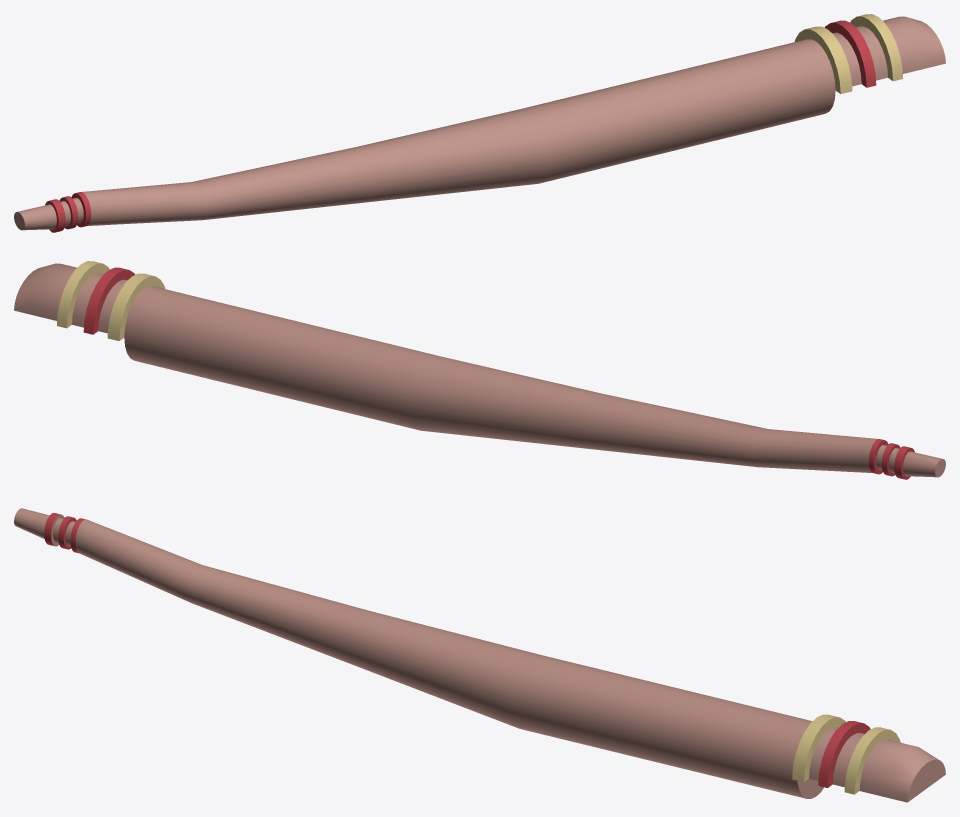
Rendered from Ship1_SpearHead.fbx.
3 views of the same model, one above another, from view 1: azimuth 30°, elevation 25°; view 2: azimuth 150°, elevation 25°; view 3: azimuth 330°, elevation 25° (orthographic).
Visible parts, largest first — view 1: Model; view 2: Model; view 3: Model.
Part boxes in pixels (<box>): Model: <box>14,14,945,232</box>; Model: <box>14,261,945,479</box>; Model: <box>14,508,945,802</box>.
Size of the model in its own units: 1256 by 129 by 116.
